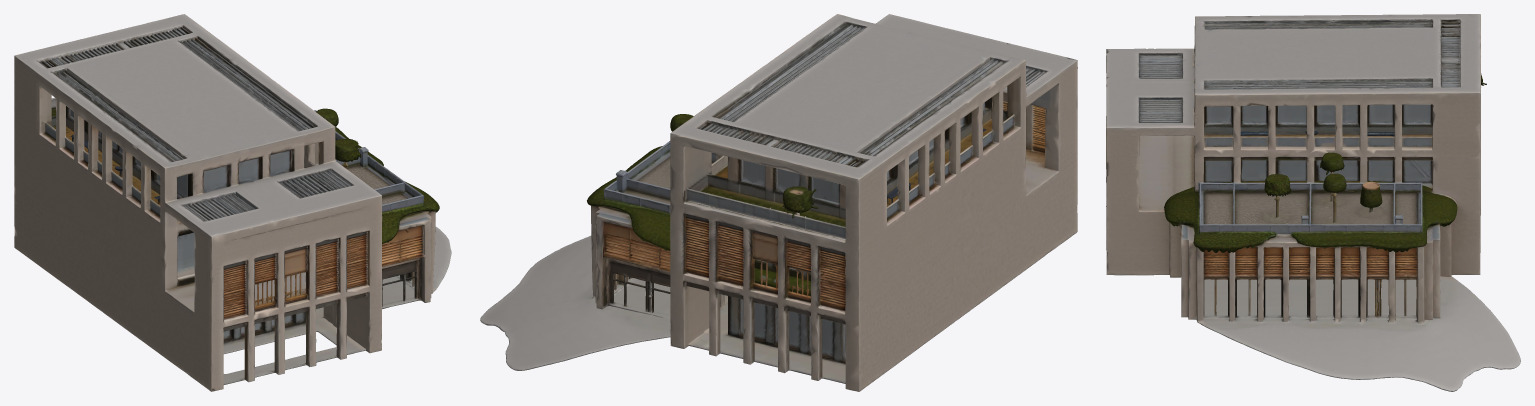
File: shopblock_corner.glb
The picture shows the model from 3 angles, left to right: view 1: azimuth 30°, elevation 25°; view 2: azimuth 150°, elevation 25°; view 3: azimuth 270°, elevation 25°; orthographic projection. The views are drawn at different scales.
Parts seen in each view (by area): view 1: tripo_node_5acd3120-45ed-42f4-8d7c-3d152befa4bf; view 2: tripo_node_5acd3120-45ed-42f4-8d7c-3d152befa4bf; view 3: tripo_node_5acd3120-45ed-42f4-8d7c-3d152befa4bf.
Boxes of the visible parts, bbox=[...] form: tripo_node_5acd3120-45ed-42f4-8d7c-3d152befa4bf: bbox=[14, 14, 451, 391]; tripo_node_5acd3120-45ed-42f4-8d7c-3d152befa4bf: bbox=[480, 14, 1077, 391]; tripo_node_5acd3120-45ed-42f4-8d7c-3d152befa4bf: bbox=[1106, 14, 1520, 391].
Bounding box in the file's own units: 19.62 × 12 × 20.81.
Materials: 1 (1 with a texture image).
